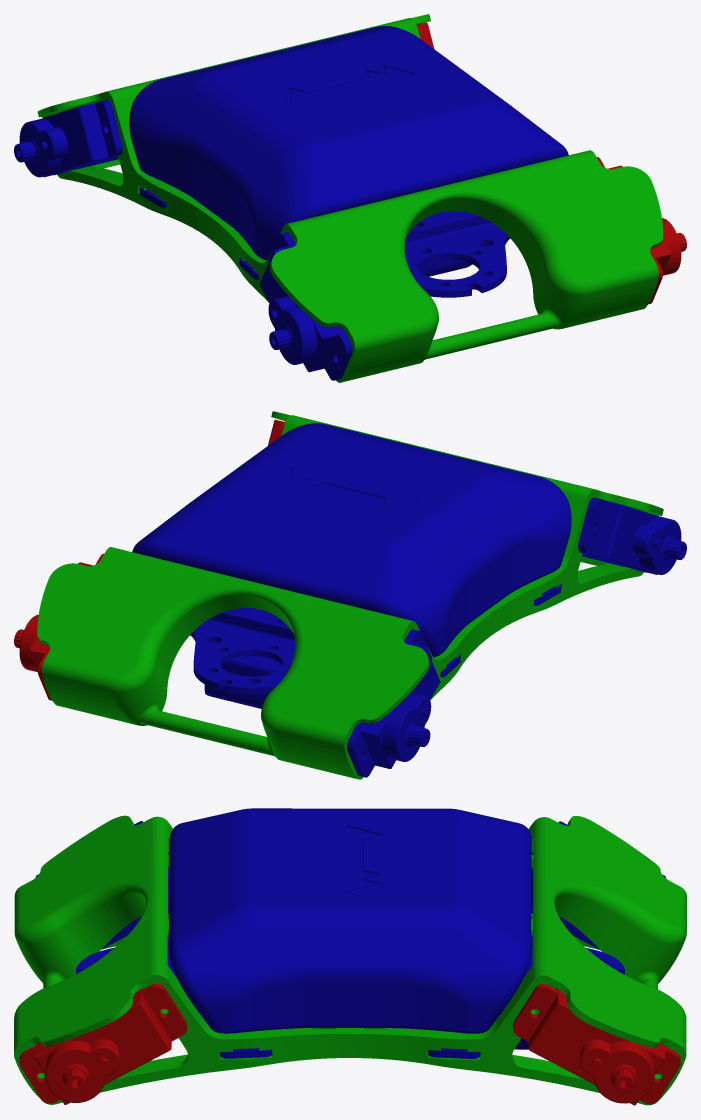
The model's file is Bittle Body Mesh.obj.
The picture shows the model from 3 angles, top to bottom: view 1: azimuth 30°, elevation 25°; view 2: azimuth 150°, elevation 25°; view 3: azimuth 270°, elevation 25°; orthographic projection. The views are drawn at different scales.
Visible parts, largest first — view 1: Biltle_Body.008; view 2: Biltle_Body.008; view 3: Biltle_Body.008.
Part boxes in pixels (bbox=[...]): Biltle_Body.008: bbox=[14, 14, 686, 382]; Biltle_Body.008: bbox=[14, 411, 686, 779]; Biltle_Body.008: bbox=[14, 808, 686, 1105].
Bounding box in the file's own units: 0.9726 × 0.357 × 1.29.
